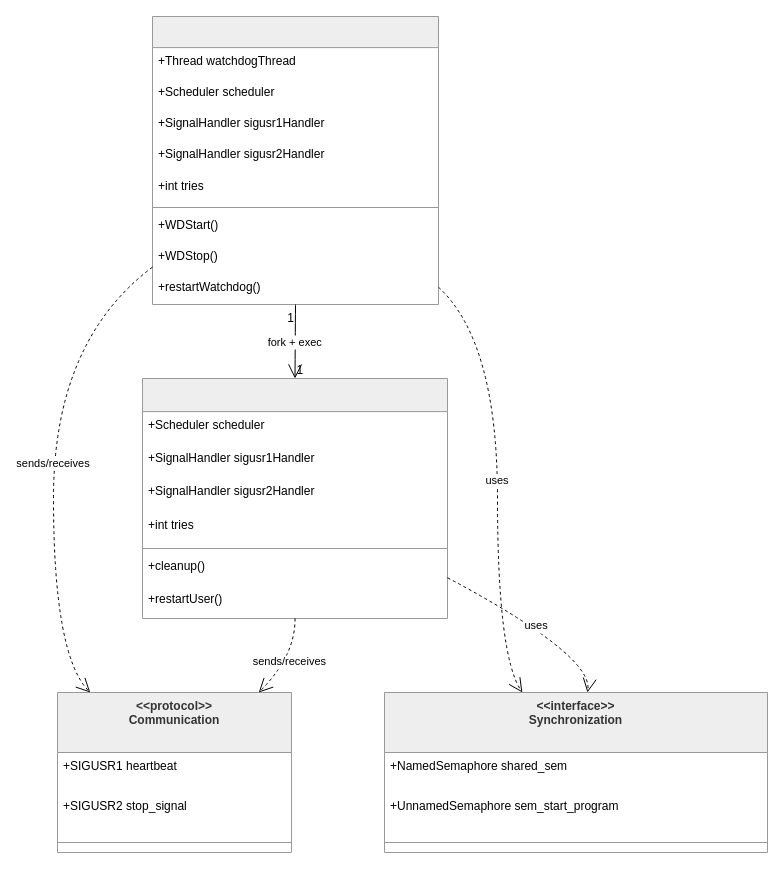
The diagram is 784 pixels wide and 869 high, and some of its shapes have lost their labels. Here are the shapes that lost their labels. From the top down, the box of each, then its label:
(152, 16, 438, 304): UserProcess
(142, 378, 448, 618): WatchdogProcess
